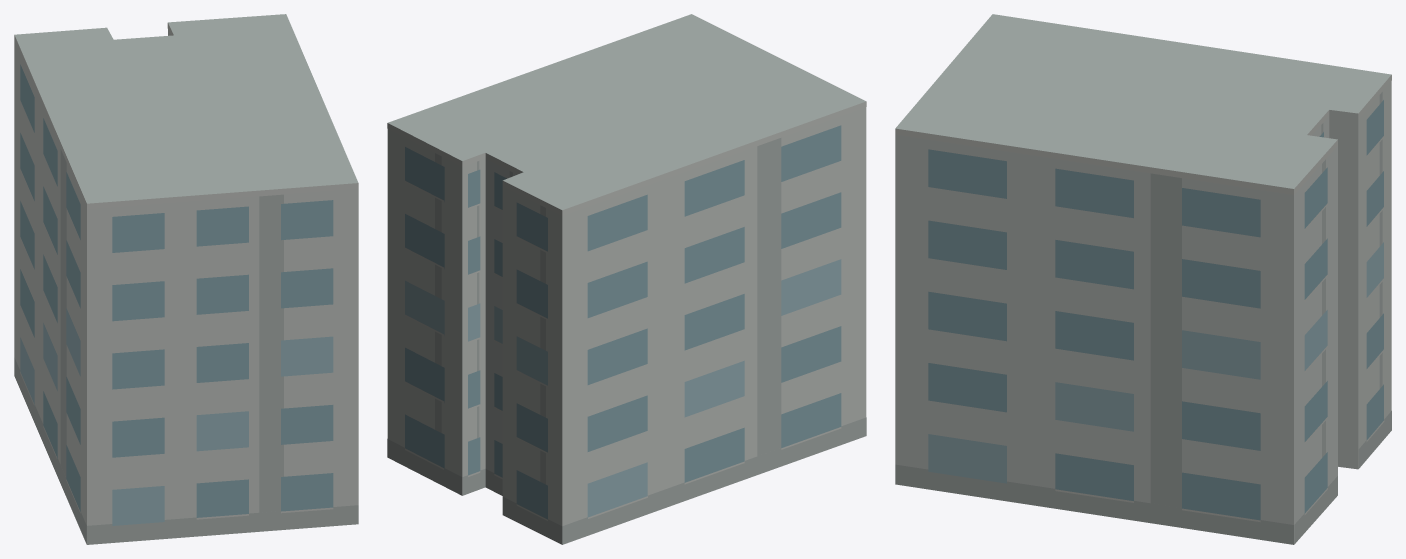
File: survey-upis-32885976.glb
3 views of the same model, side by side, from view 1: azimuth 30°, elevation 25°; view 2: azimuth 150°, elevation 25°; view 3: azimuth 270°, elevation 25° (orthographic). The views are drawn at different scales.
Visible parts, largest first — view 1: survey-upis-32885976.tmp; view 2: survey-upis-32885976.tmp; view 3: survey-upis-32885976.tmp.
Part boxes in pixels (x1=…): survey-upis-32885976.tmp: x1=14, y1=14, x2=358, y2=544; survey-upis-32885976.tmp: x1=387, y1=14, x2=866, y2=544; survey-upis-32885976.tmp: x1=895, y1=14, x2=1391, y2=544.
Size of the model in its own units: 14.88 by 14.1 by 17.84.
